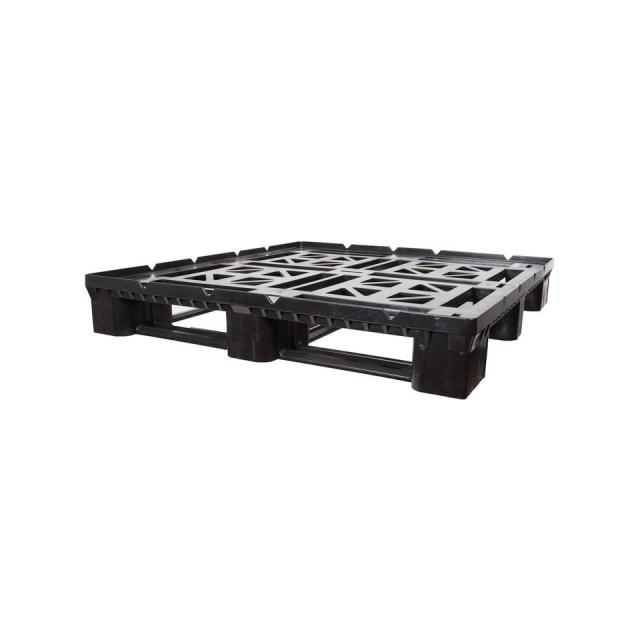non-igps: (72, 224, 566, 410)
